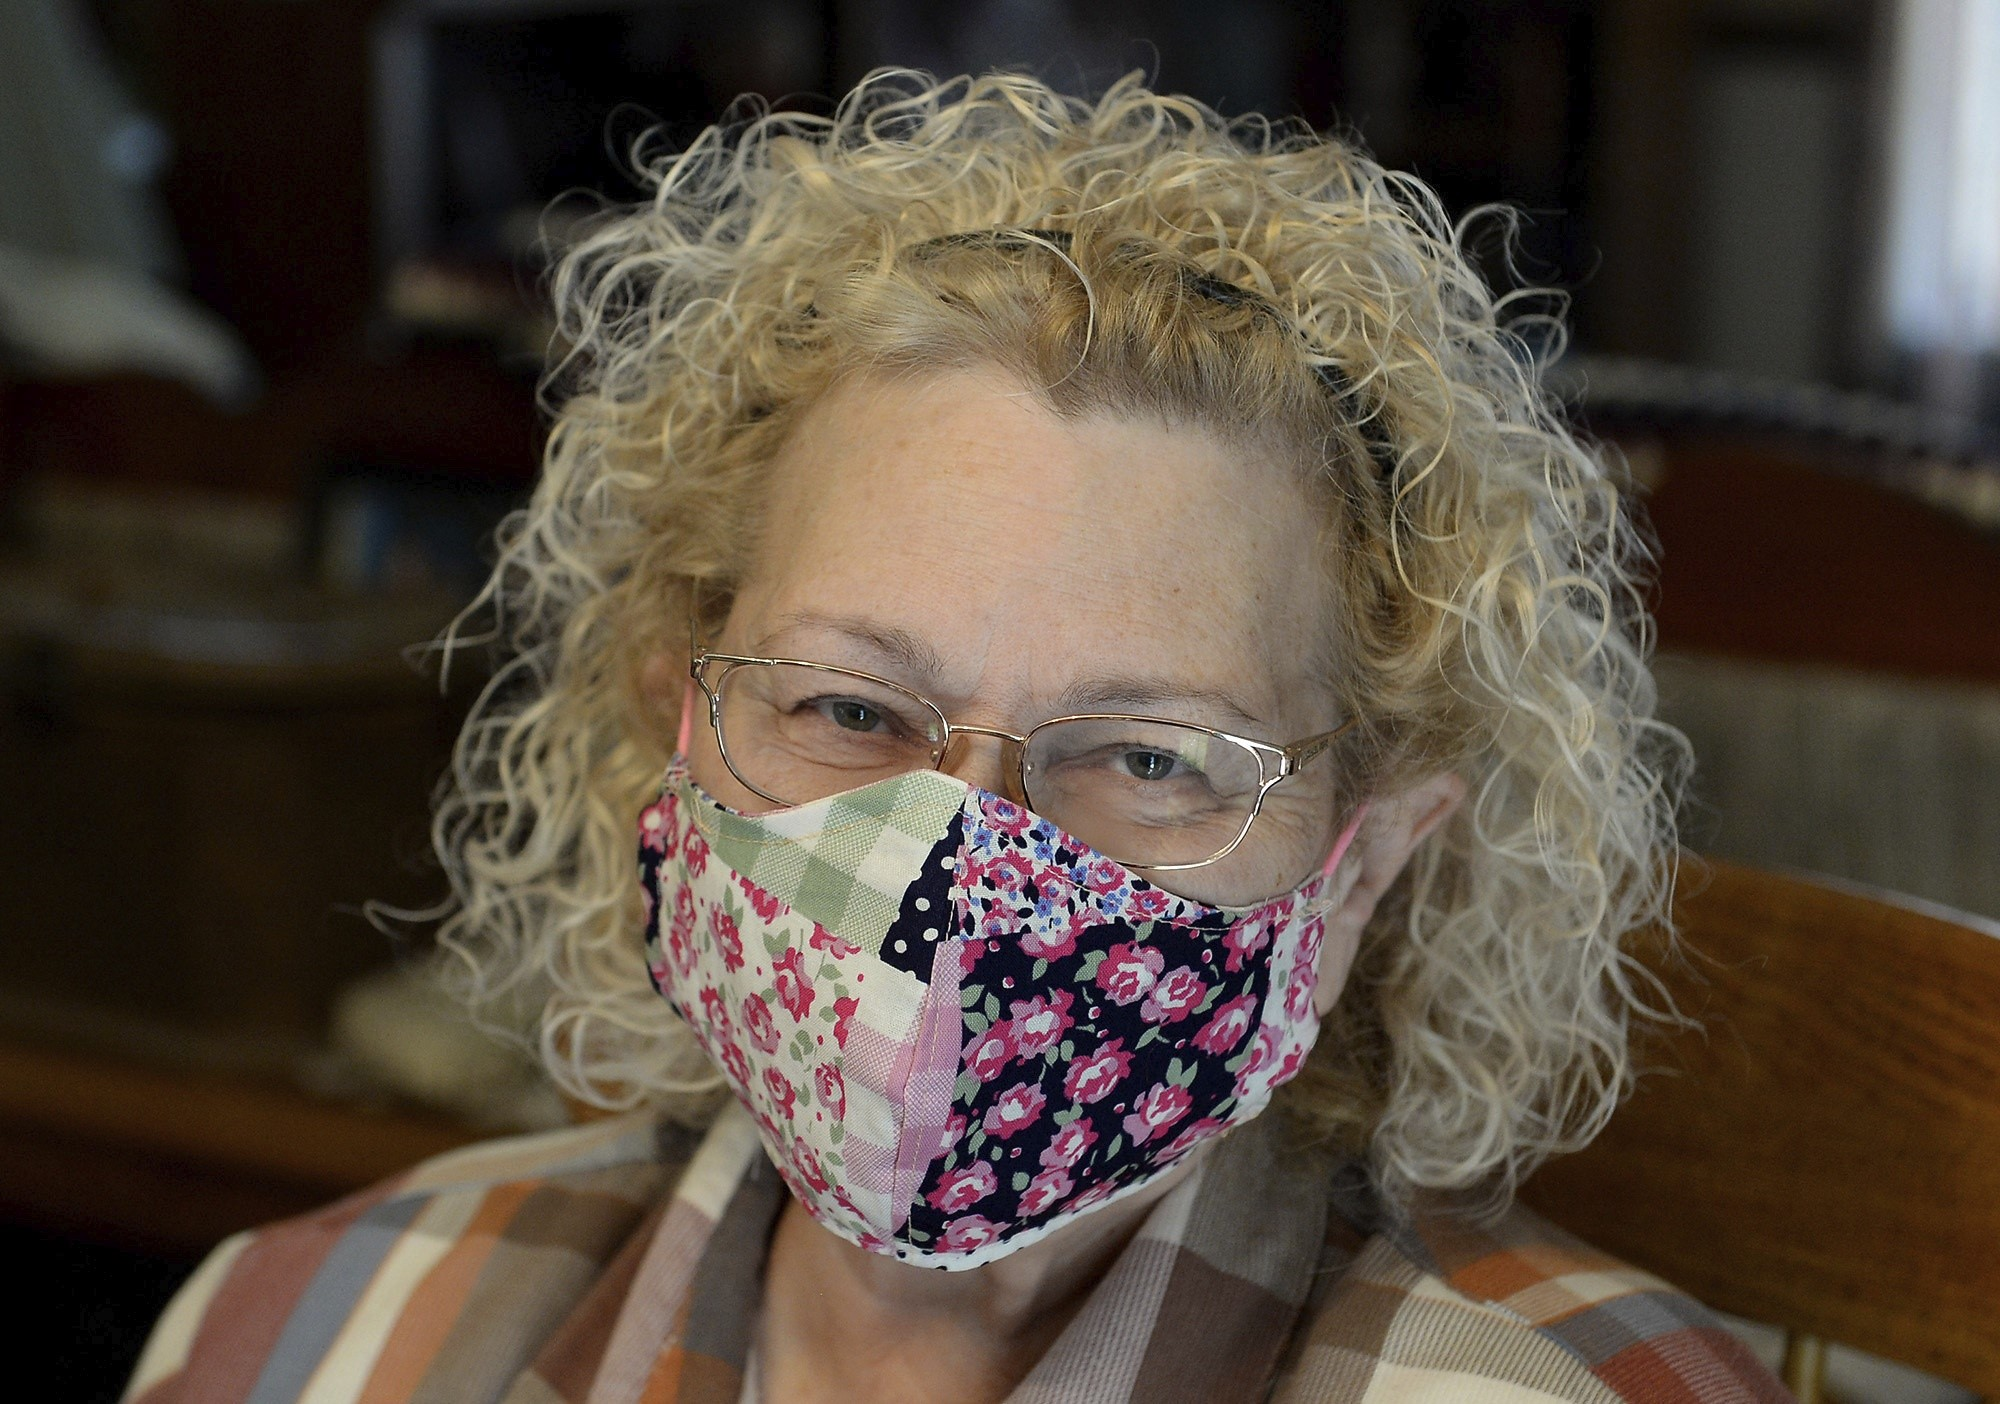face_with_mask: (604, 117, 1478, 1275)
